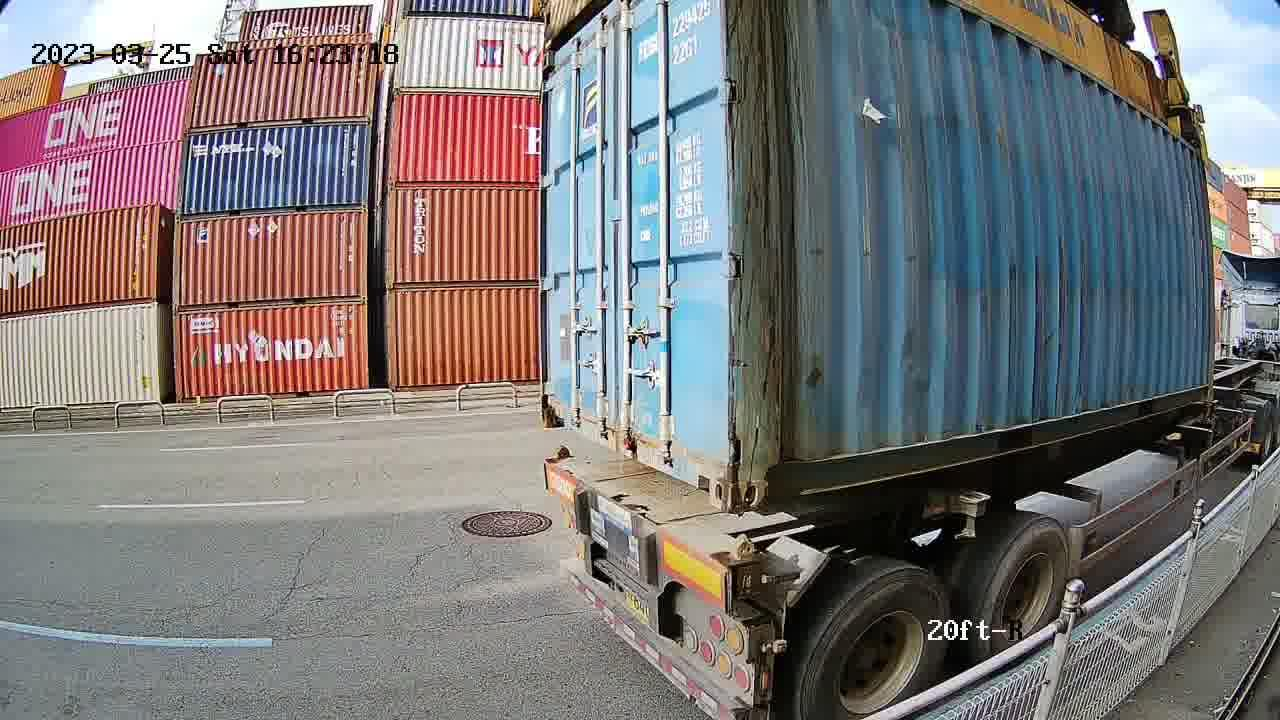Chassis: (542, 455, 757, 606)
Cone: (725, 533, 758, 599)
Hole_L: (731, 443, 805, 511), (540, 386, 579, 434)
Hole_R: (683, 431, 731, 512)
Tire: (797, 567, 953, 719), (987, 519, 1069, 664)
